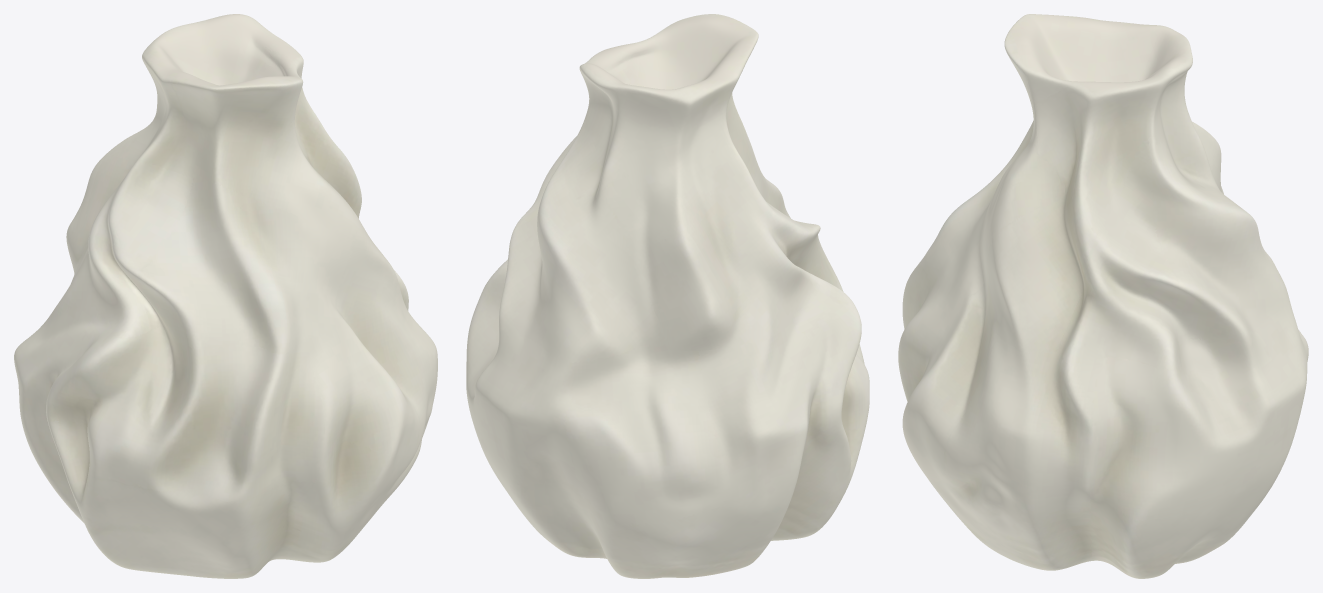
Rendered from Spring Vase.glb.
3 views of the same model, side by side, from view 1: azimuth 30°, elevation 25°; view 2: azimuth 150°, elevation 25°; view 3: azimuth 270°, elevation 25° (orthographic).
Parts seen in each view (by area): view 1: mesh_node; view 2: mesh_node; view 3: mesh_node.
Boxes of the visible parts, <box> form: mesh_node: <box>14,14,437,578</box>; mesh_node: <box>466,14,869,578</box>; mesh_node: <box>898,14,1308,578</box>.
Size of the model in its own units: 1.44 by 1.9 by 1.45.
Materials: 1 (1 with a texture image).
